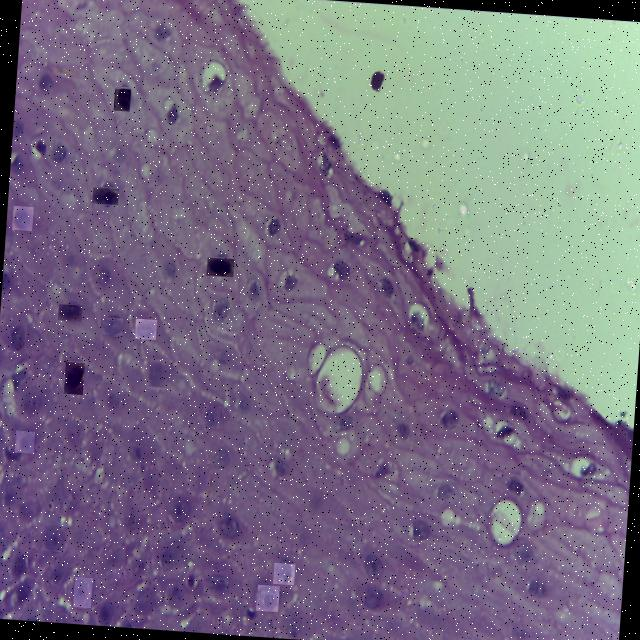Nuclear Hyperchromatism: (64, 362, 84, 393), (205, 570, 228, 594), (74, 577, 92, 607), (257, 585, 278, 610), (207, 257, 234, 276), (10, 320, 26, 351), (12, 206, 32, 230), (44, 525, 62, 551), (274, 563, 295, 583), (135, 319, 157, 338), (15, 431, 34, 453), (92, 187, 118, 203), (101, 317, 122, 335), (203, 406, 221, 427), (150, 360, 165, 385), (113, 88, 130, 110), (59, 304, 82, 320)
